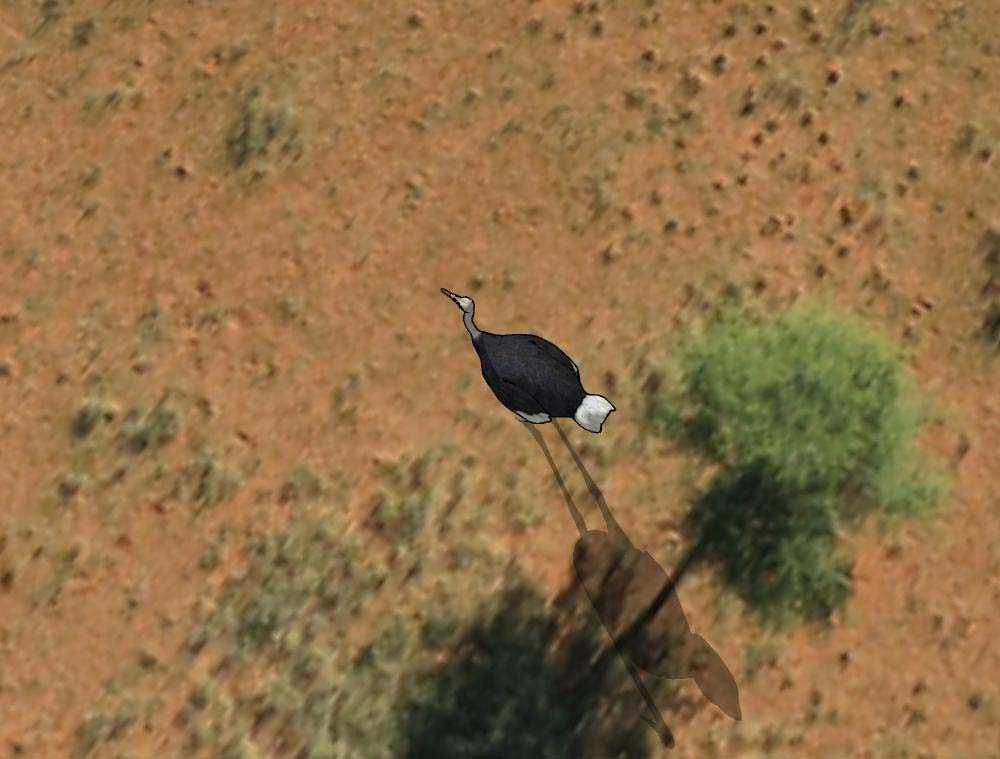ostrich: (438, 281, 617, 441)
